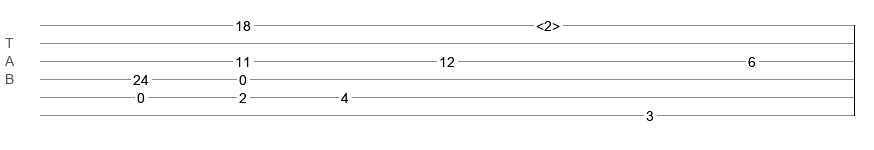0: (137, 90, 145, 100), (239, 72, 247, 82)
11: (235, 54, 251, 64)
12: (439, 54, 455, 64)
18: (235, 18, 251, 28)
2: (239, 90, 247, 100)
24: (133, 72, 149, 82)
3: (646, 108, 654, 118)
4: (341, 90, 349, 100)
6: (748, 54, 756, 64)
harmonic: (536, 18, 560, 28)
